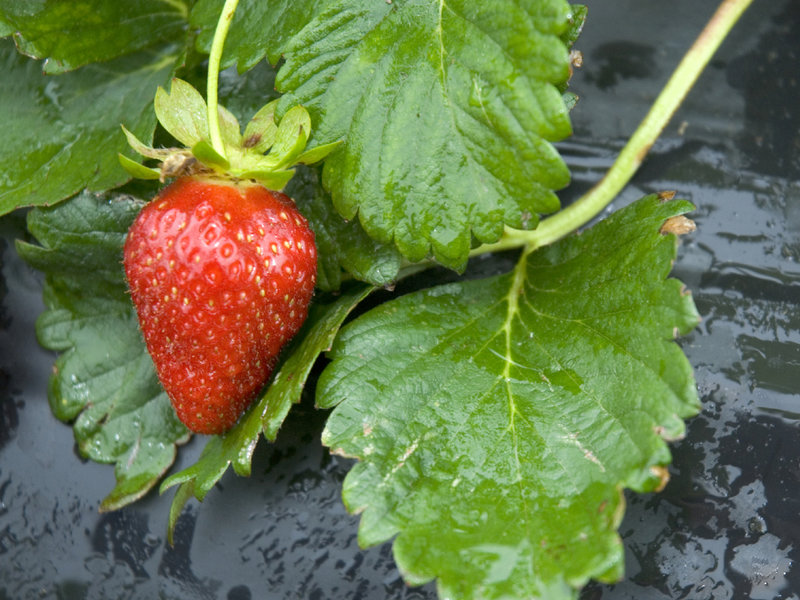ripe_strawberry: (121, 130, 326, 446)
